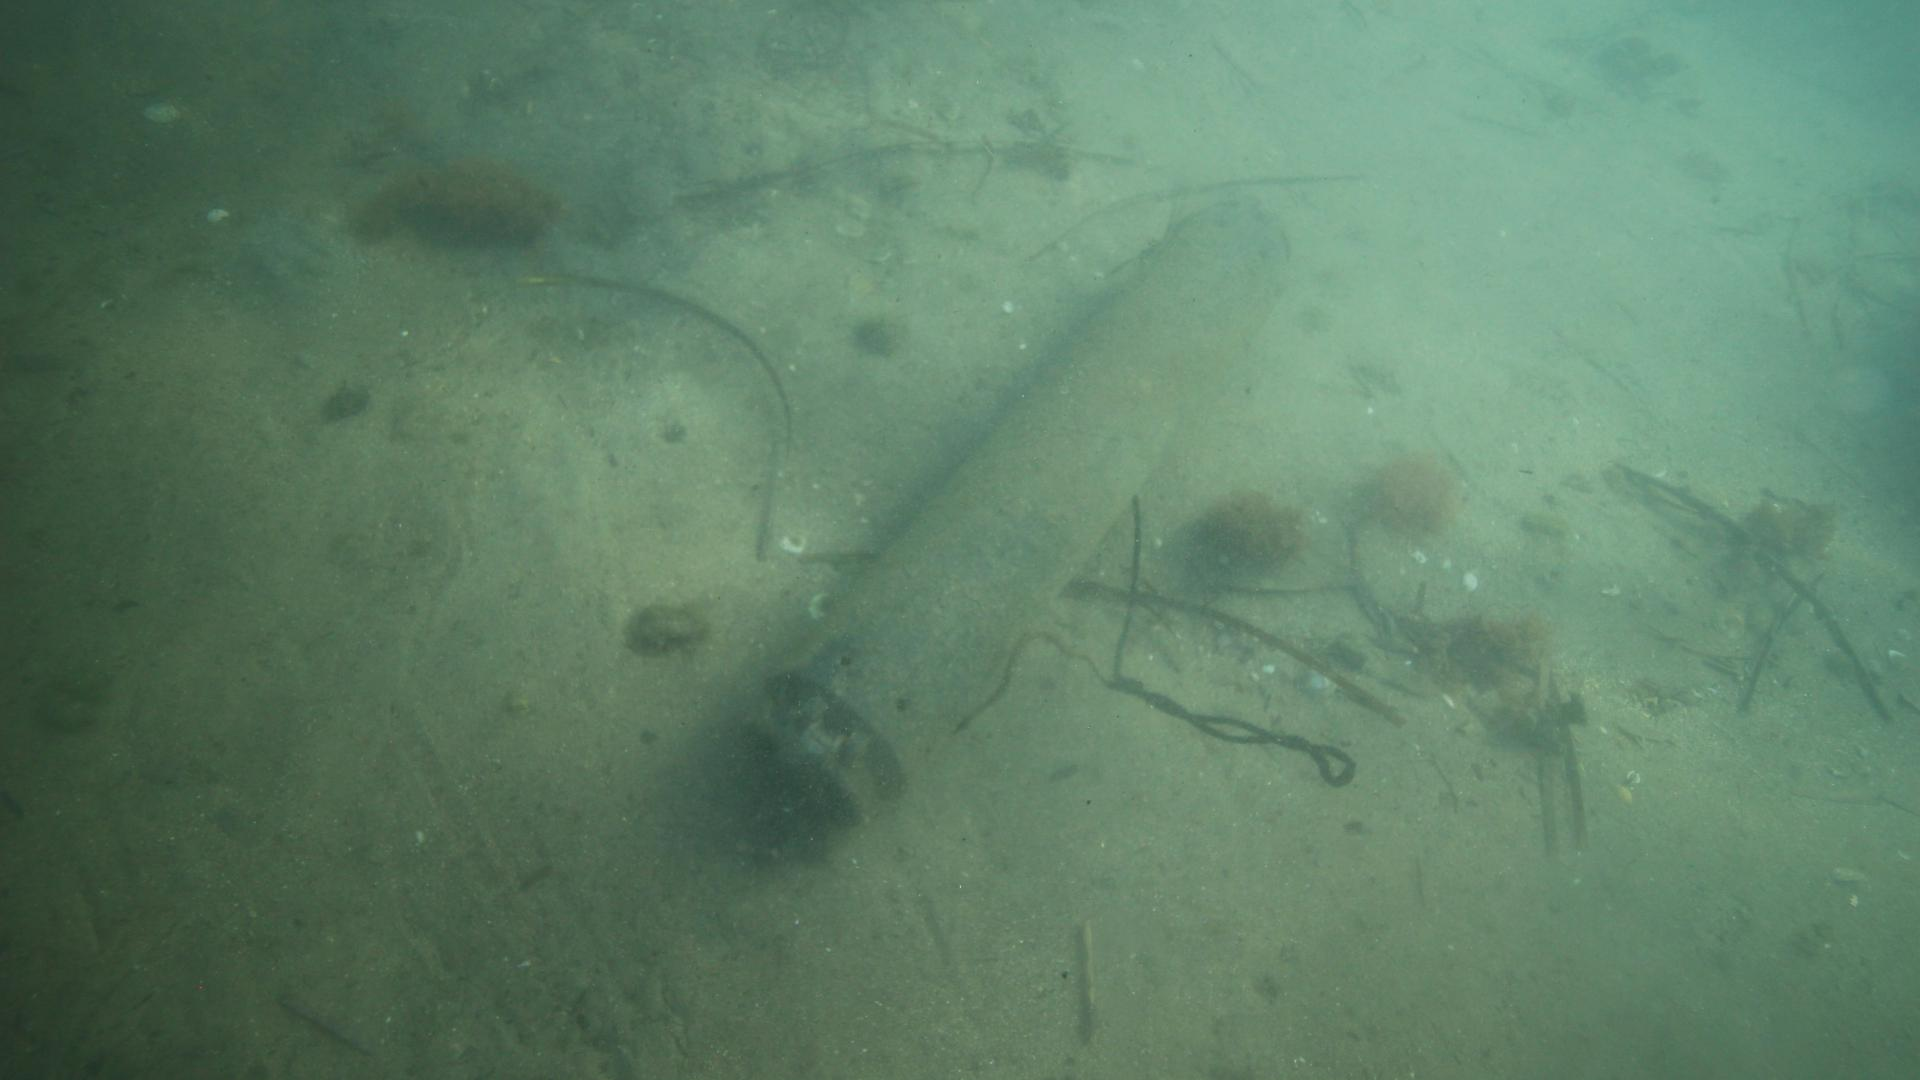eel fish trap: (733, 200, 1298, 829)
rope: (948, 495, 1356, 785)
